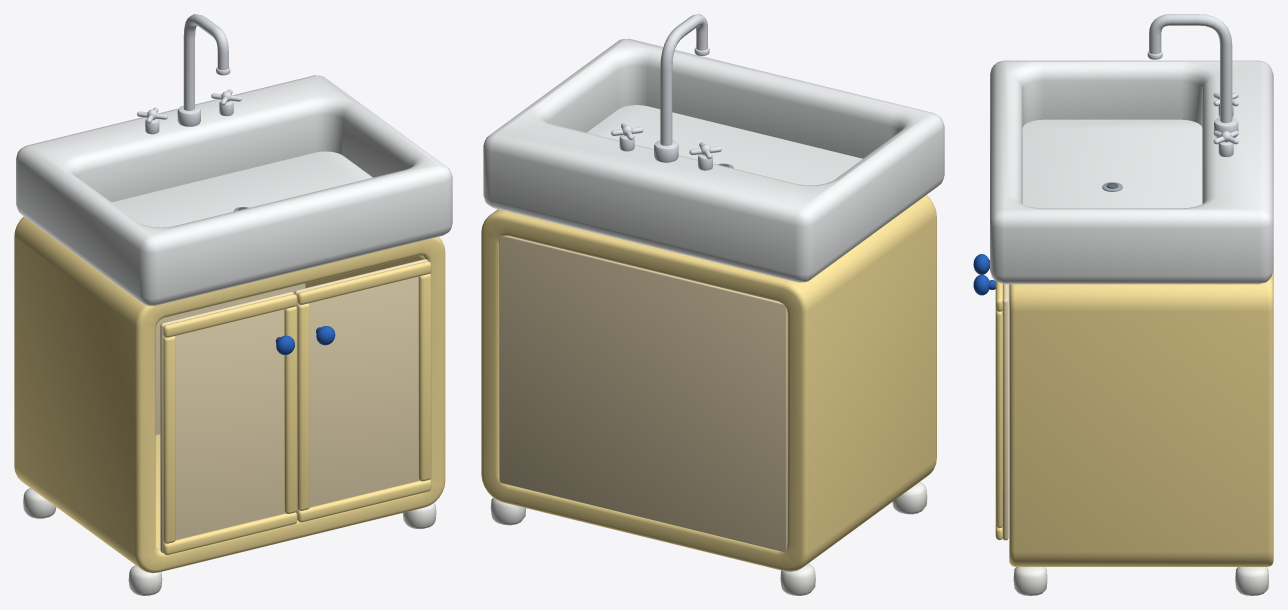
The model's file is armario_cozinha_pia_campestre_azul.glb.
3 views of the same model, side by side, from view 1: azimuth 30°, elevation 25°; view 2: azimuth 150°, elevation 25°; view 3: azimuth 270°, elevation 25° (orthographic). The views are drawn at different scales.
Visible parts, largest first — view 1: armario_cozinha_pia_campestre_azul, porta_1, porta_2; view 2: armario_cozinha_pia_campestre_azul; view 3: armario_cozinha_pia_campestre_azul, porta_2.
Boxes of the visible parts, box(x1,y1,x2,y2) form: armario_cozinha_pia_campestre_azul: box(14, 14, 452, 595); porta_1: box(160, 292, 297, 555); porta_2: box(294, 259, 431, 522); armario_cozinha_pia_campestre_azul: box(481, 14, 944, 595); armario_cozinha_pia_campestre_azul: box(990, 14, 1273, 595); porta_2: box(973, 274, 1008, 540).
Bounding box in the file's own units: 0.798 × 1.18 × 0.6336.
1 material, 1 textured.
